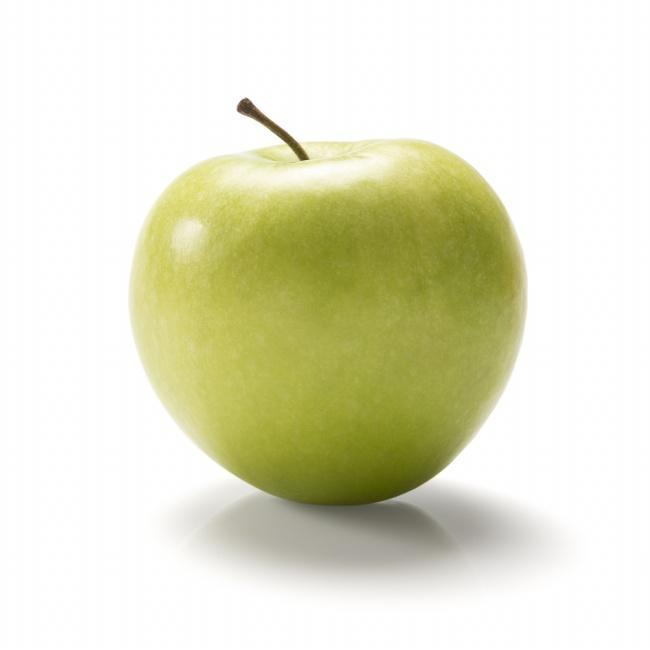apple: (122, 123, 527, 513)
